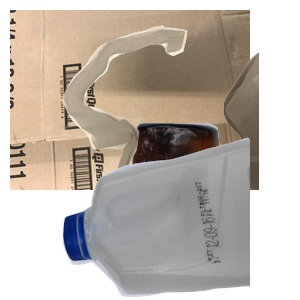cardboard: (10, 10, 250, 190)
glass: (29, 120, 242, 300)
plastic: (60, 135, 300, 300)
trash: (60, 23, 300, 203)
